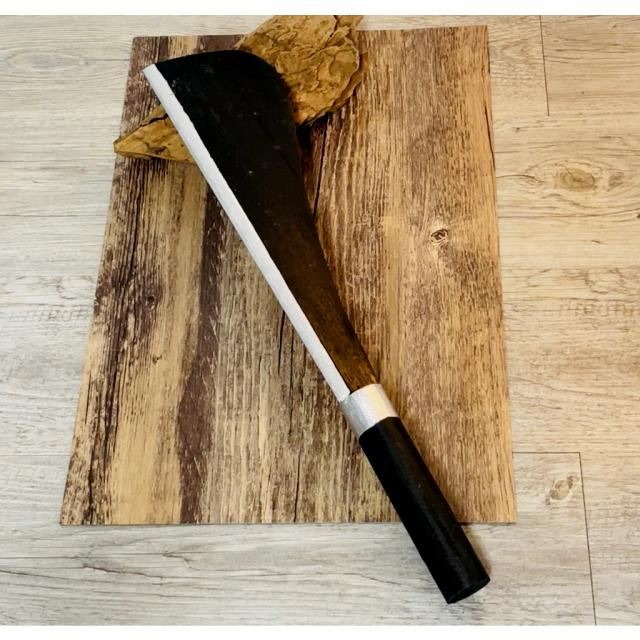eto: (136, 37, 510, 612)
